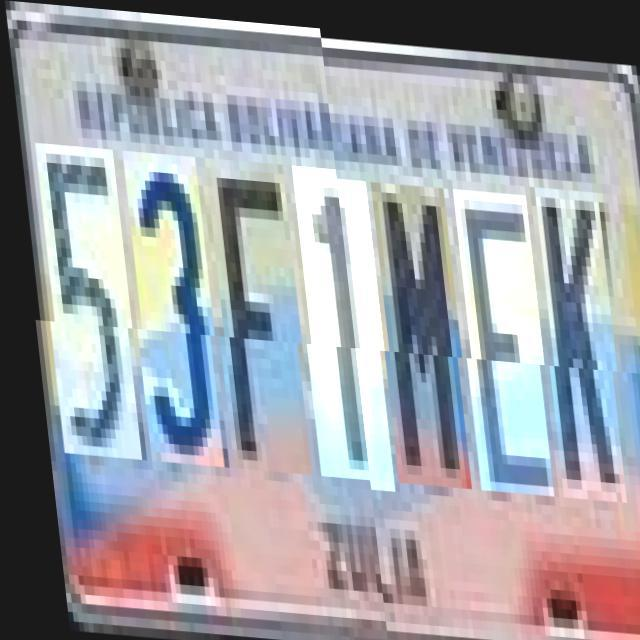1: (290, 170, 390, 486)
3: (120, 158, 220, 474)
5: (32, 152, 138, 468)
E: (449, 181, 548, 487)
F: (202, 164, 308, 480)
K: (532, 178, 622, 492)
M: (368, 176, 467, 482)
